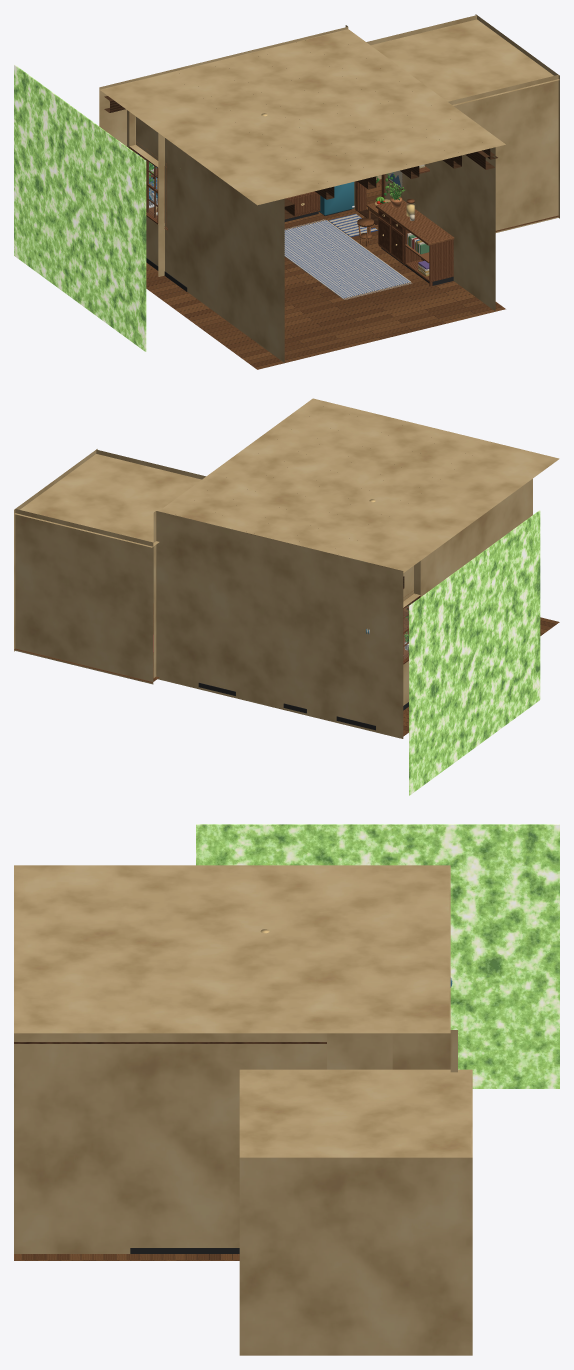
The model's file is kitchen_room_02.glb.
3 renders of one model, top to bottom at view 1: azimuth 30°, elevation 25°; view 2: azimuth 150°, elevation 25°; view 3: azimuth 270°, elevation 25°, orthographic. The views are drawn at different scales.
Parts seen in each view (by area): view 1: ENV_Plaster_Wall, ENV_Outdoor_Foliage, ENV_Floor_Planks, ENV_Rug_Woven, ENV_Wood_Cabinet, ENV_Wood_Beam, ENV_Wood_Counter, Fridge_Body, ENV_Rug_Small, ENV_Black_Plastic; view 2: ENV_Plaster_Wall, ENV_Outdoor_Foliage, ENV_Floor_Planks, ENV_Black_Plastic; view 3: ENV_Plaster_Wall, ENV_Outdoor_Foliage, ENV_Floor_Planks, ENV_Black_Plastic.
Boxes of the visible parts, x1=… form: ENV_Plaster_Wall: x1=99, y1=14, x2=559, y2=362; ENV_Outdoor_Foliage: x1=14, y1=65, x2=146, y2=351; ENV_Floor_Planks: x1=146, y1=179, x2=559, y2=369; ENV_Rug_Woven: x1=284, y1=220, x2=410, y2=298; ENV_Wood_Cabinet: x1=129, y1=141, x2=453, y2=286; ENV_Wood_Beam: x1=104, y1=96, x2=497, y2=224; ENV_Wood_Counter: x1=149, y1=199, x2=454, y2=245; Fridge_Body: x1=319, y1=182, x2=354, y2=215; ENV_Rug_Small: x1=328, y1=214, x2=378, y2=236; ENV_Black_Plastic: x1=146, y1=211, x2=453, y2=291; ENV_Plaster_Wall: x1=14, y1=398, x2=559, y2=738; ENV_Outdoor_Foliage: x1=409, y1=510, x2=540, y2=795; ENV_Floor_Planks: x1=14, y1=603, x2=559, y2=736; ENV_Black_Plastic: x1=198, y1=682, x2=408, y2=730; ENV_Plaster_Wall: x1=14, y1=865, x2=472, y2=1355; ENV_Outdoor_Foliage: x1=196, y1=824, x2=559, y2=1088; ENV_Floor_Planks: x1=14, y1=1254, x2=239, y2=1260; ENV_Black_Plastic: x1=130, y1=1248, x2=239, y2=1253.
Bounding box in the file's own units: 9.44 × 4 × 7.5.
76 materials, 15 textured.
